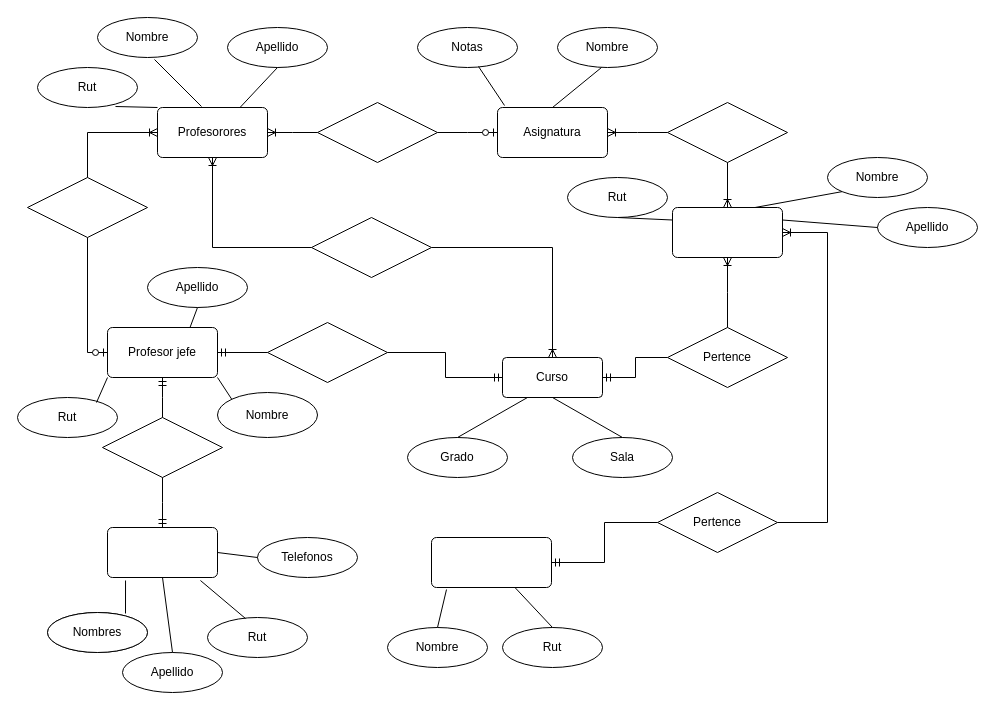
Image size: 995x710. Some labels were removed from this diagram. The shapes that lost their labels are listed below. From the top down, each one's centre as x and y in pixels, then its label:
At (377,132): "Imparte".
At (727,132): "Rinden".
At (87,207): "Puede ser".
At (371,247): "Hacen clases".
At (727,232): "Alumnos".
At (327,352): "Esta encargado".
At (162,447): "Se comunica".
At (162,552): "Centro de padres".
At (491,562): "Centro de alumnos".
